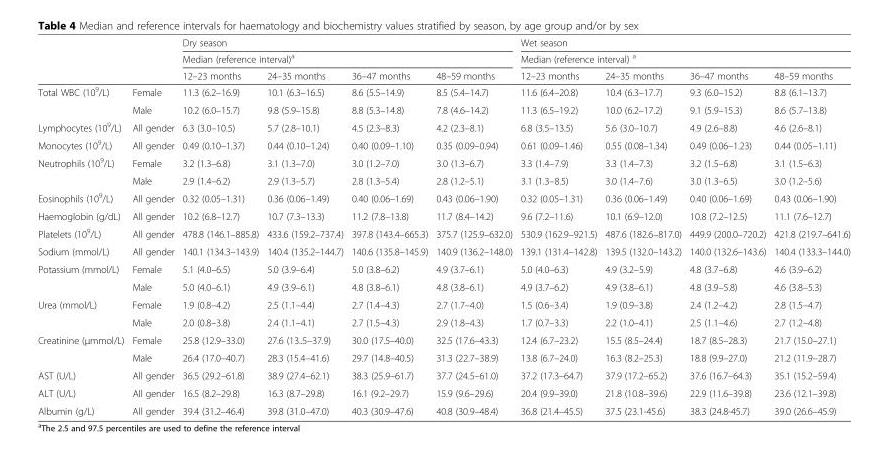table: (37, 36, 849, 416)
table column: (37, 36, 127, 416), (177, 36, 262, 416), (346, 36, 431, 416), (515, 36, 600, 416), (684, 36, 769, 416), (262, 36, 346, 416), (431, 36, 515, 416), (600, 36, 684, 416), (769, 36, 849, 416), (127, 36, 177, 416)
table column header: (37, 36, 849, 82)
table row: (37, 188, 849, 207), (37, 223, 849, 242), (37, 49, 849, 67), (37, 82, 849, 100), (37, 117, 849, 135), (37, 135, 849, 153), (37, 153, 849, 171), (37, 242, 849, 260), (37, 277, 849, 295), (37, 295, 849, 313), (37, 330, 849, 348), (37, 348, 849, 366), (37, 366, 849, 384), (37, 100, 849, 117), (37, 171, 849, 188), (37, 260, 849, 277), (37, 313, 849, 330), (37, 384, 849, 401), (37, 207, 849, 223), (37, 67, 849, 82), (37, 401, 849, 416), (37, 36, 849, 49)
table spanning cell: (177, 36, 515, 67), (515, 36, 849, 67), (37, 330, 127, 366), (37, 82, 127, 117), (37, 153, 127, 188), (37, 260, 127, 295), (37, 295, 127, 330)
